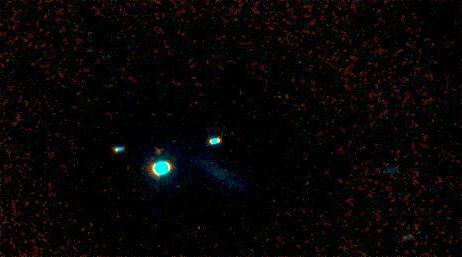star: (144, 139, 174, 169)
